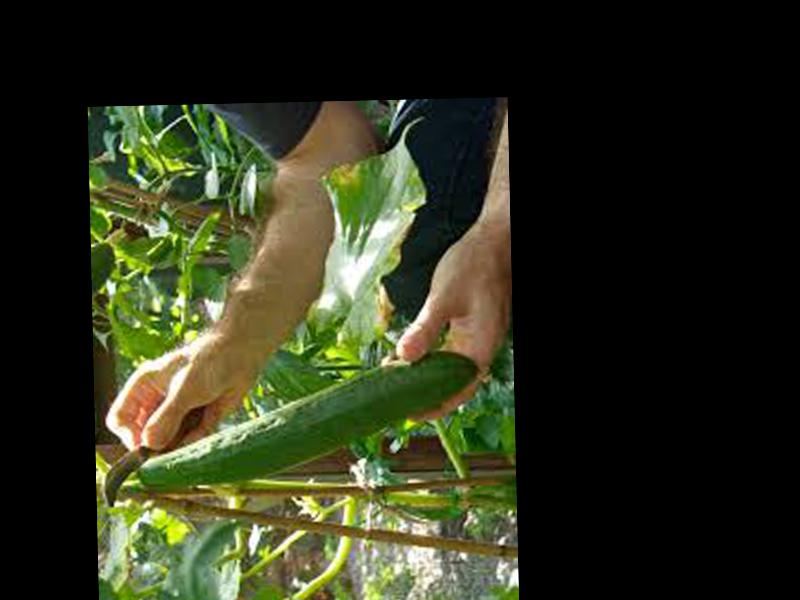Cucumber: (137, 351, 479, 490)
